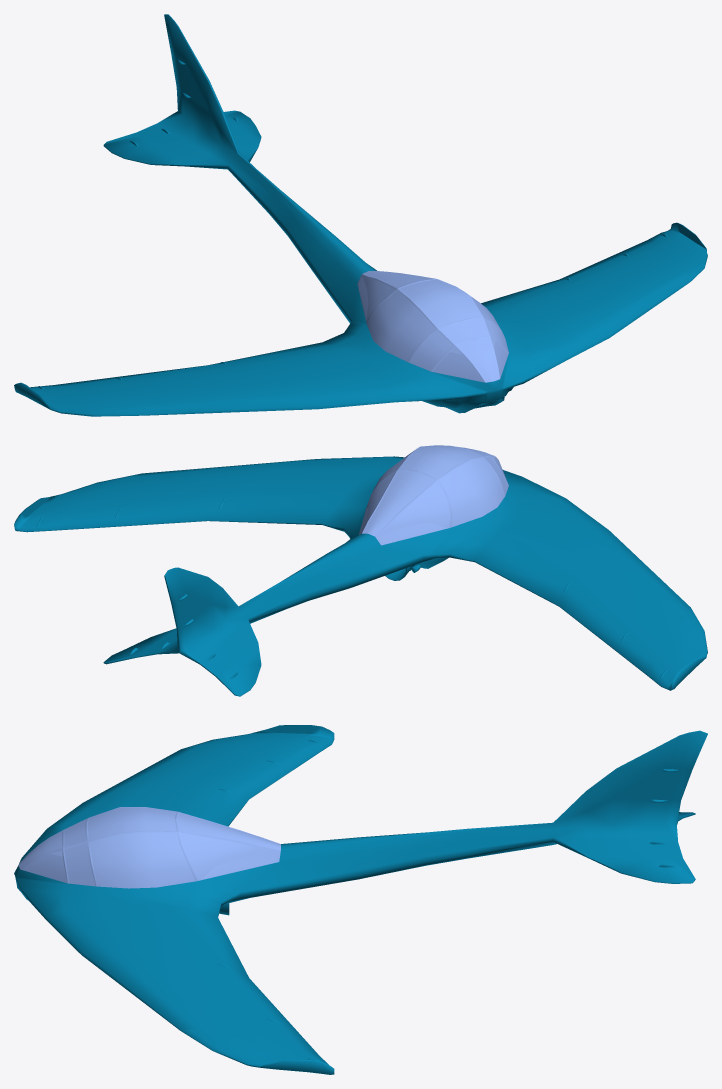
The model's file is Boss2.fbx.
The picture shows the model from 3 angles, top to bottom: view 1: azimuth 30°, elevation 25°; view 2: azimuth 150°, elevation 25°; view 3: azimuth 270°, elevation 25°; orthographic projection. The views are drawn at different scales.
Parts seen in each view (by area): view 1: GlassCab; view 2: GlassCab; view 3: GlassCab.
Part boxes in pixels (x1=…): GlassCab: x1=14, y1=14, x2=707, y2=416; GlassCab: x1=14, y1=445, x2=707, y2=696; GlassCab: x1=14, y1=725, x2=707, y2=1074.
Bounding box in the file's own units: 200 × 52.85 × 174.
